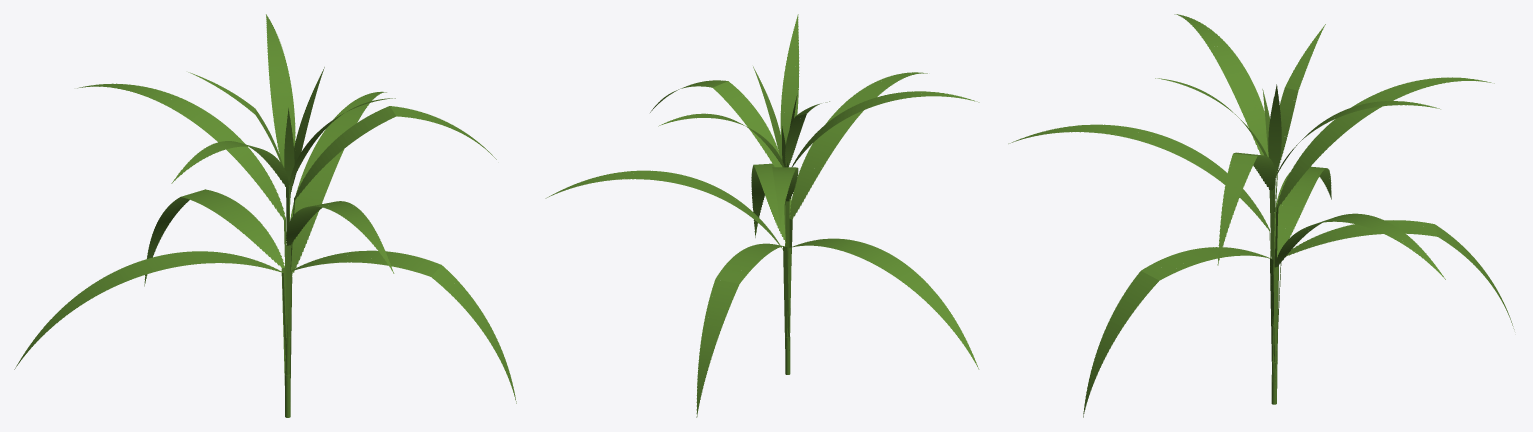
Rendered from maize_004_day_085.dae.
The picture shows the model from 3 angles, left to right: view 1: azimuth 30°, elevation 25°; view 2: azimuth 150°, elevation 25°; view 3: azimuth 270°, elevation 25°; orthographic projection. The views are drawn at different scales.
Parts seen in each view (by area): view 1: node; view 2: node; view 3: node.
Boxes of the visible parts, x1,y1,x2,y2 form: node: (14,14,516,417); node: (545,14,979,417); node: (1008,14,1514,417).
Bounding box in the file's own units: 1.48 × 1.15 × 1.52.
1 material, 1 textured.
